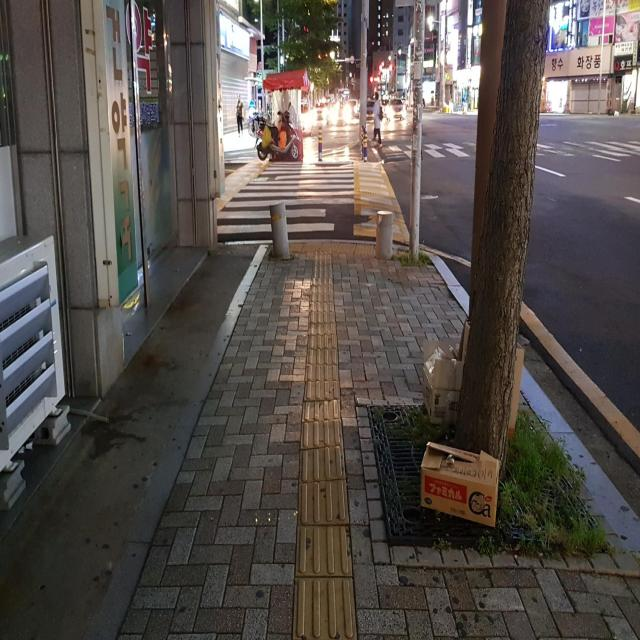횡단보도: (217, 161, 356, 234), (392, 143, 640, 160)
